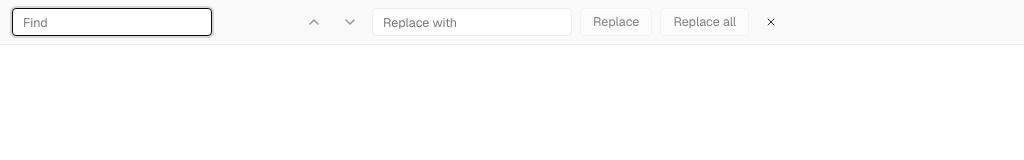
FindBar › says when nothing matches, with nowhere to move to
The image size is (1024, 160).
Type "zzz" into the search field with placeholder "Find".
click(112, 22); type("zzz")  # box [12,8,212,36]
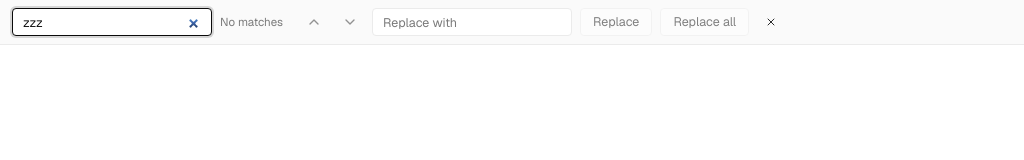
expect the text "No matches" is shown: met, box [220,14,292,30]
